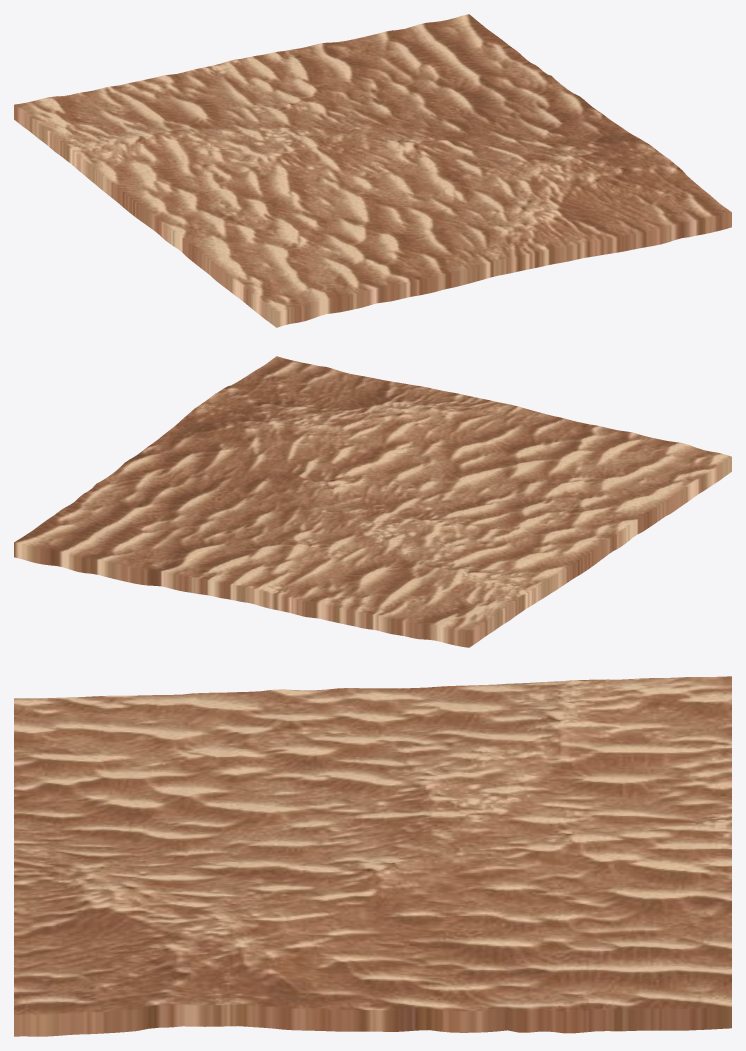
3 renders of one model, top to bottom at view 1: azimuth 30°, elevation 25°; view 2: azimuth 150°, elevation 25°; view 3: azimuth 270°, elevation 25°, orthographic. The views are drawn at different scales.
Parts seen in each view (by area): view 1: L6_32_51; view 2: L6_32_51; view 3: L6_32_51.
Boxes of the visible parts, x1=… form: L6_32_51: x1=14, y1=14, x2=731, y2=327; L6_32_51: x1=14, y1=356, x2=731, y2=647; L6_32_51: x1=14, y1=676, x2=731, y2=1036.
Size of the model in its own units: 225 by 19.8 by 225.
Materials: 1 (1 with a texture image).
